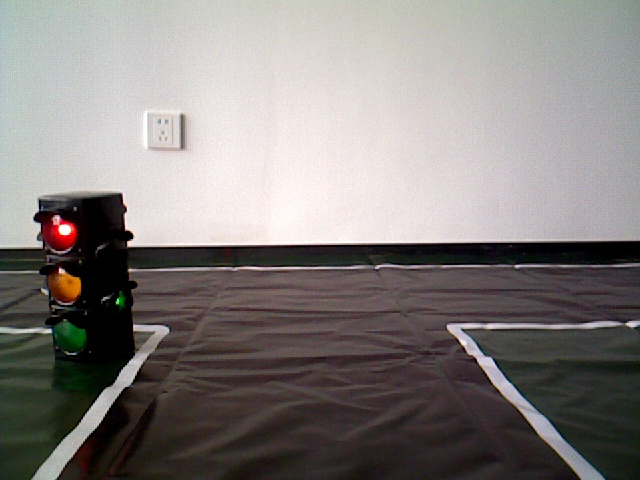red: (37, 199, 128, 365)
